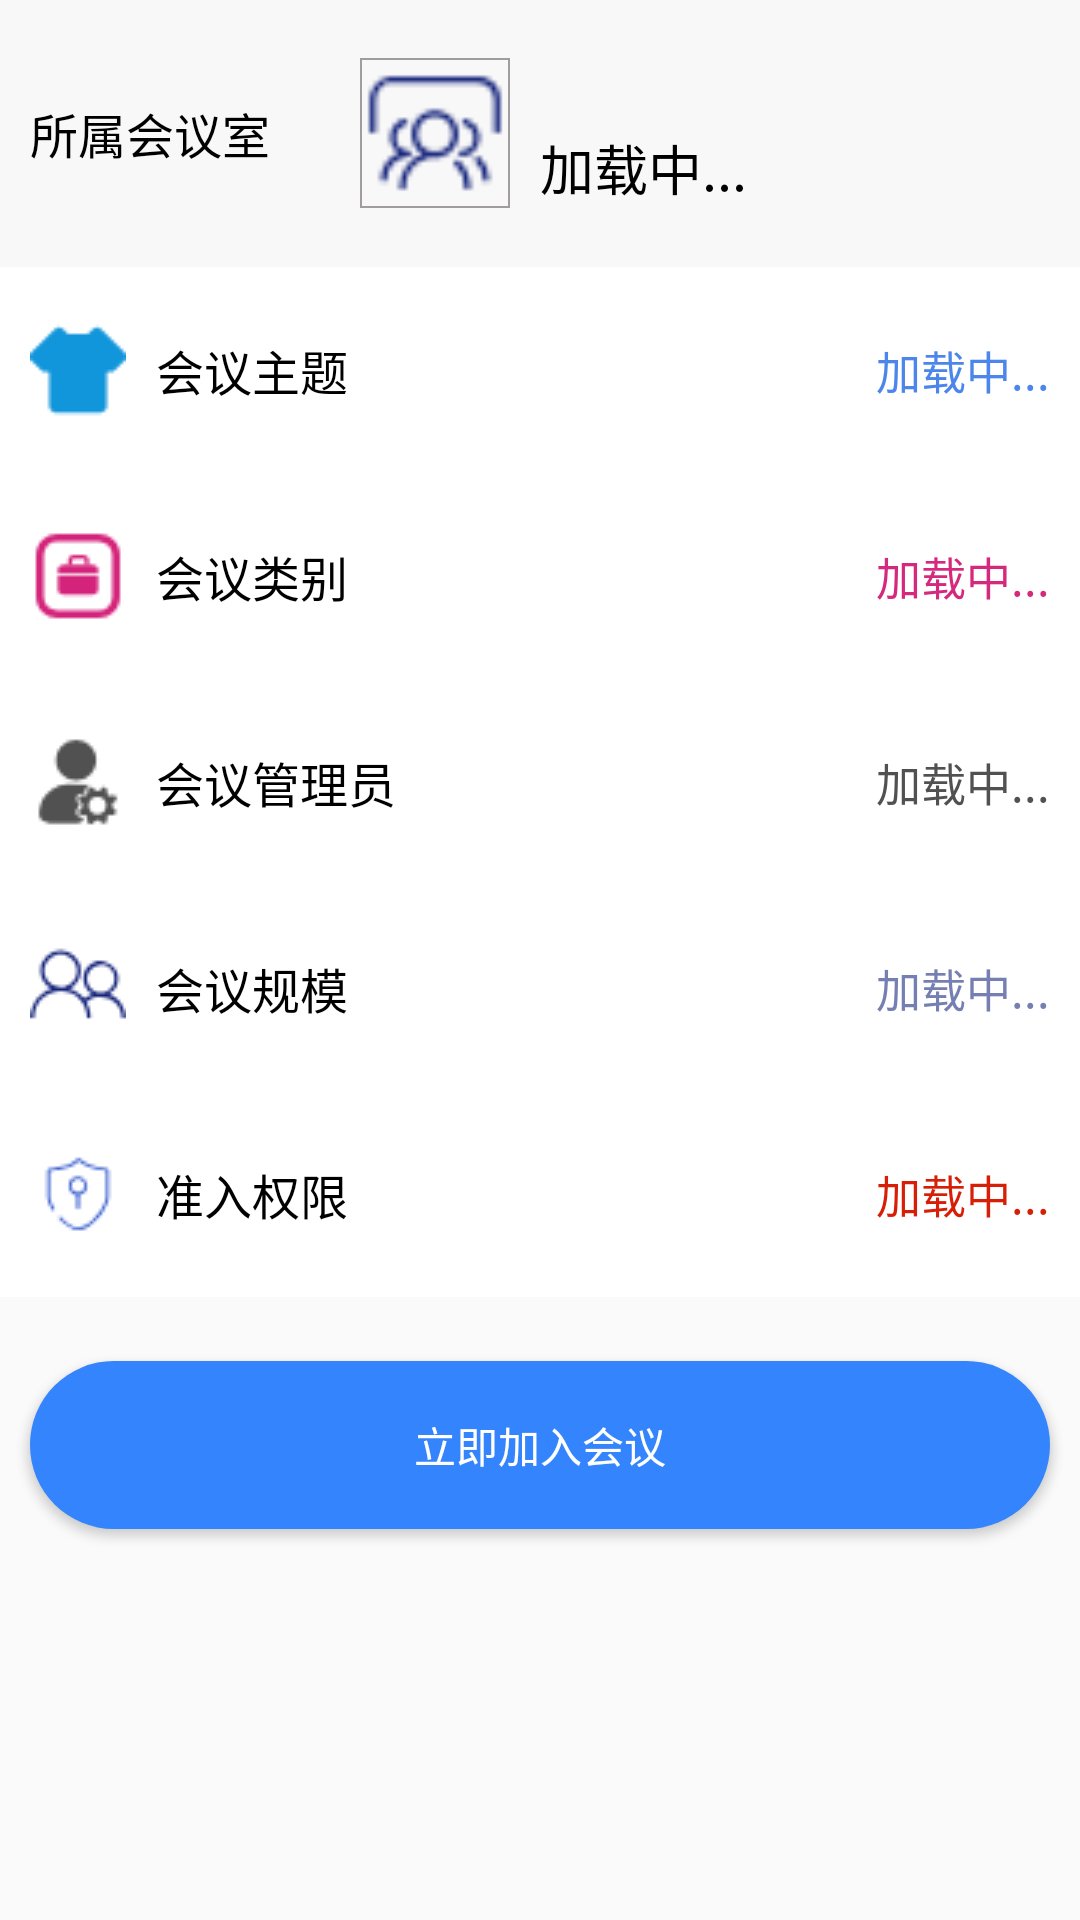

Icons on this 1080x1920 Android screen, each with the point to tap as [x,y]:
meet hoster: [78,782]
meet limit: [78,1194]
meet size: [78,983]
meet theme: [78,370]
meet type: [78,576]
room head: [435,133]
